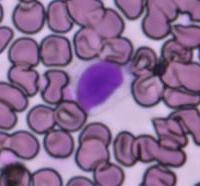L: (66, 57, 127, 115)
